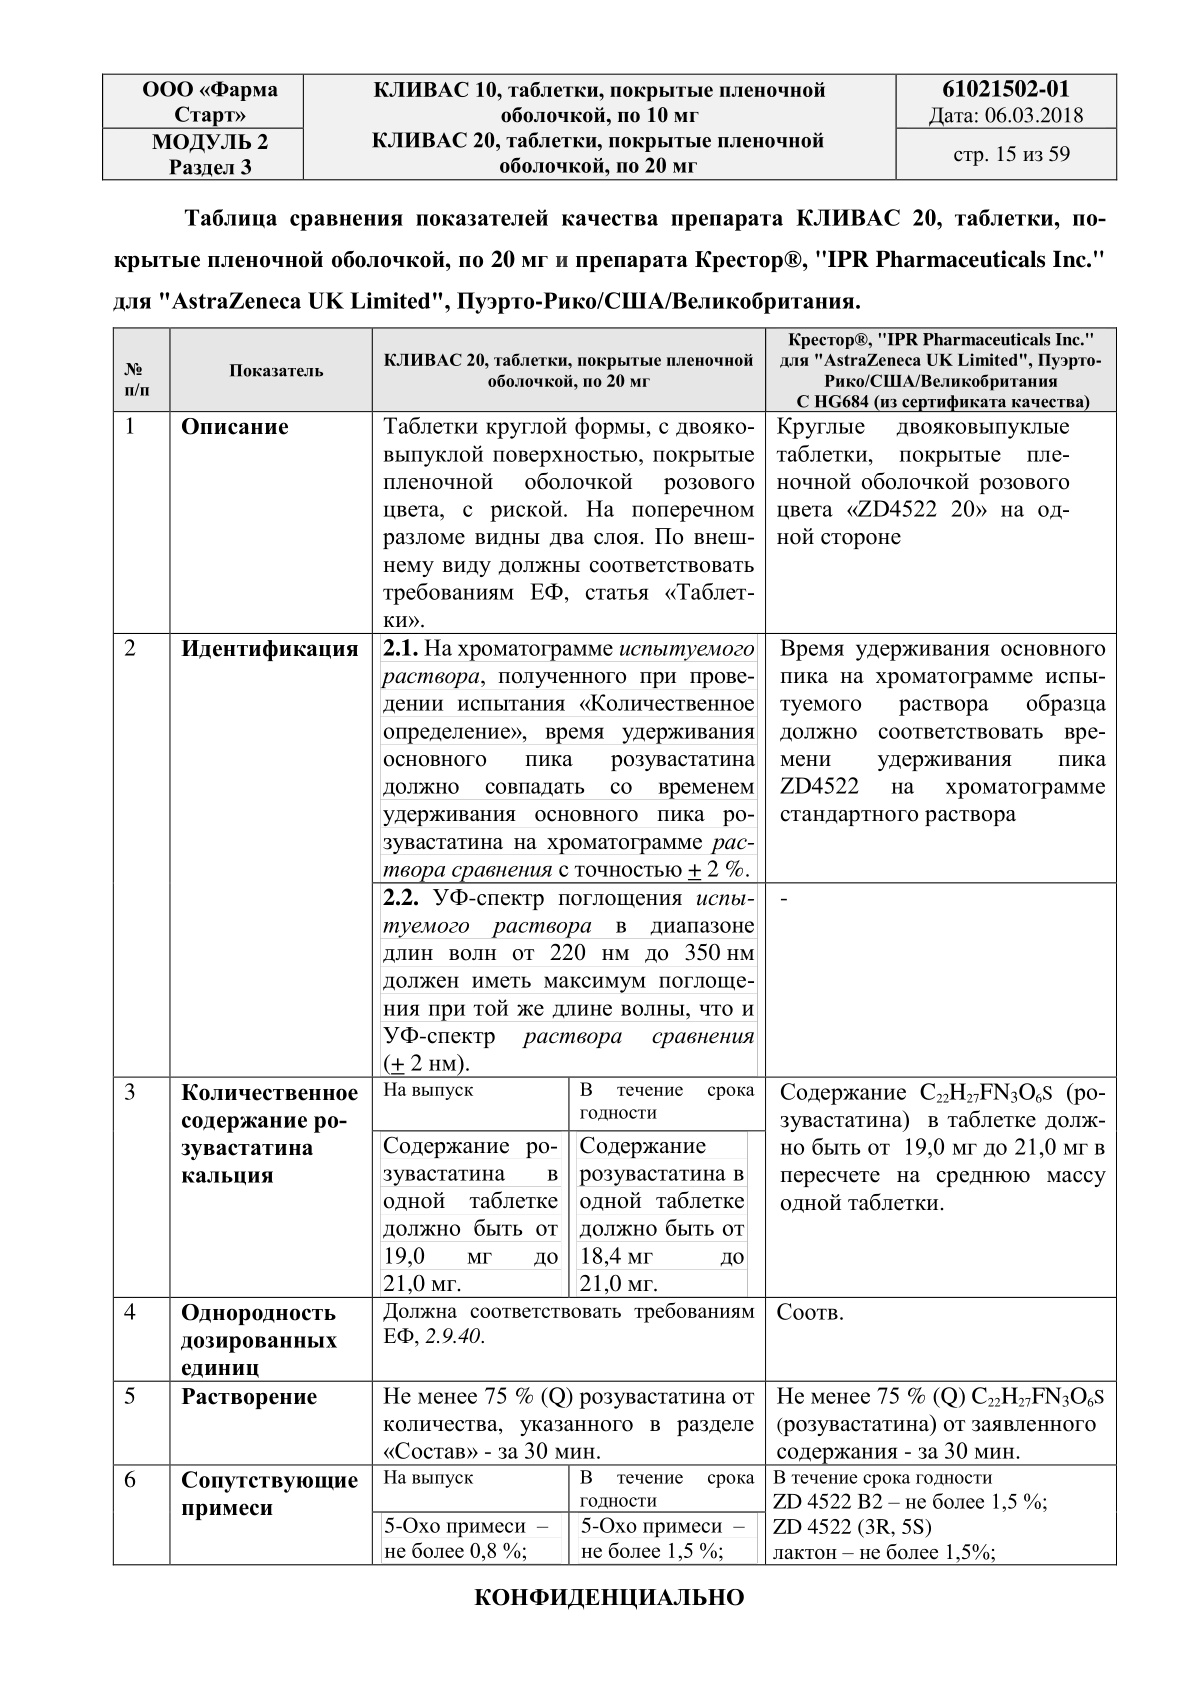merged_cells: (111, 326, 1118, 1566), (101, 72, 1118, 180)
